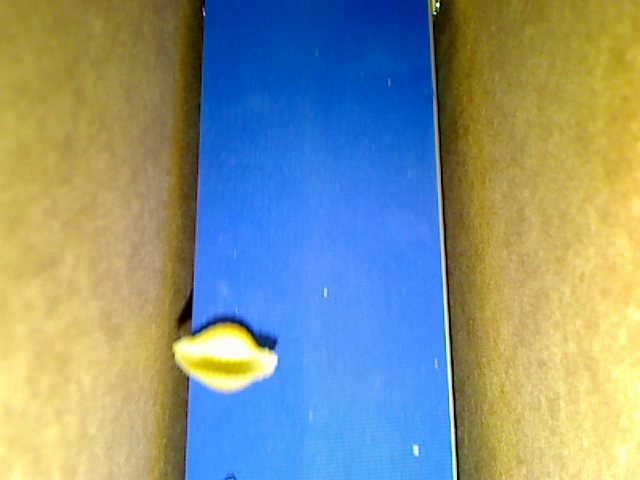shell: (172, 321, 278, 392)
